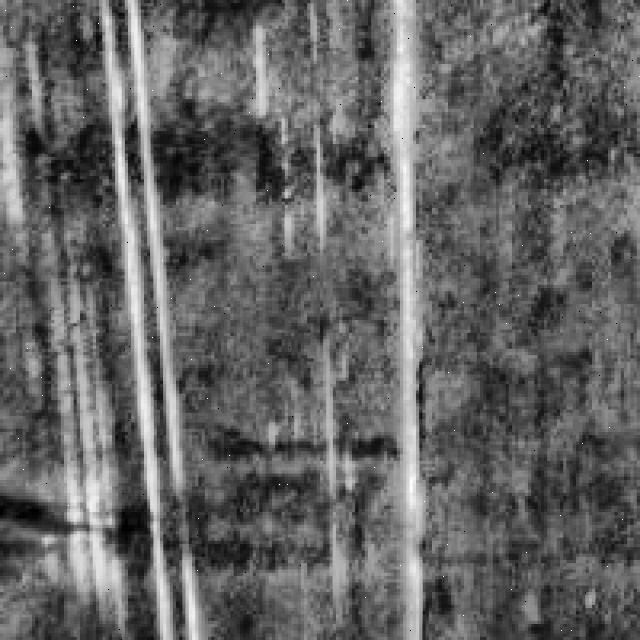Inclusion: (99, 0, 202, 624), (388, 0, 439, 630)
Patches: (10, 483, 156, 579)
